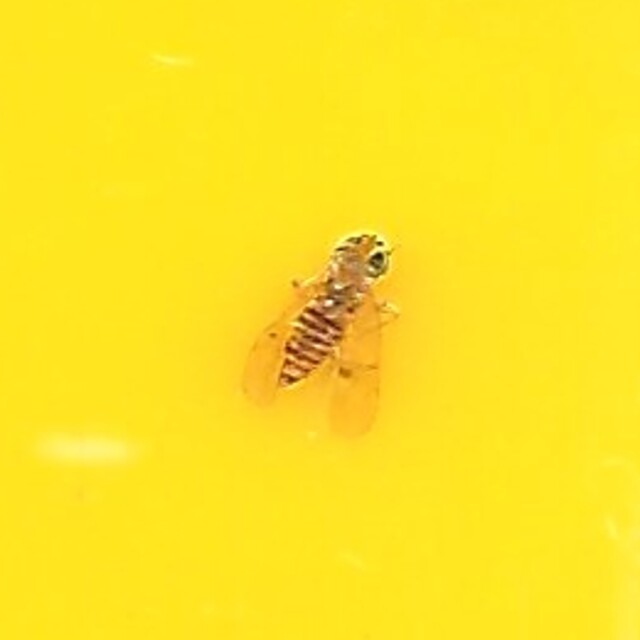Hemiptera: (246, 224, 394, 416)
